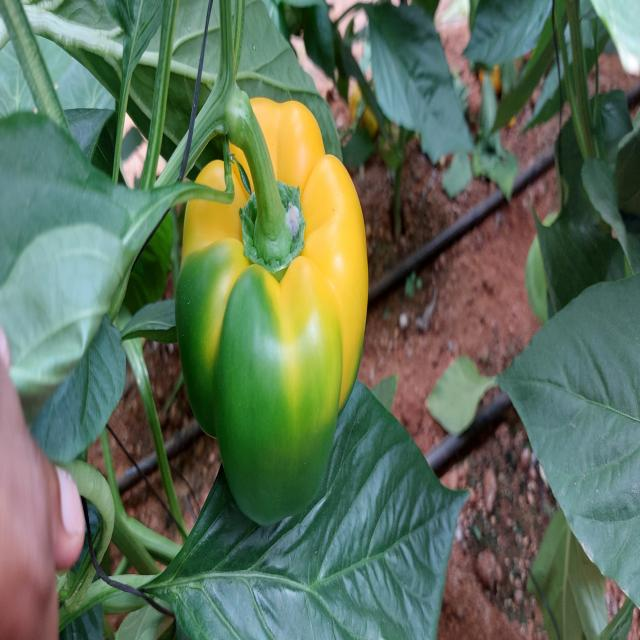GreenishYellow--Can-be-Harvested: (179, 77, 377, 519)
